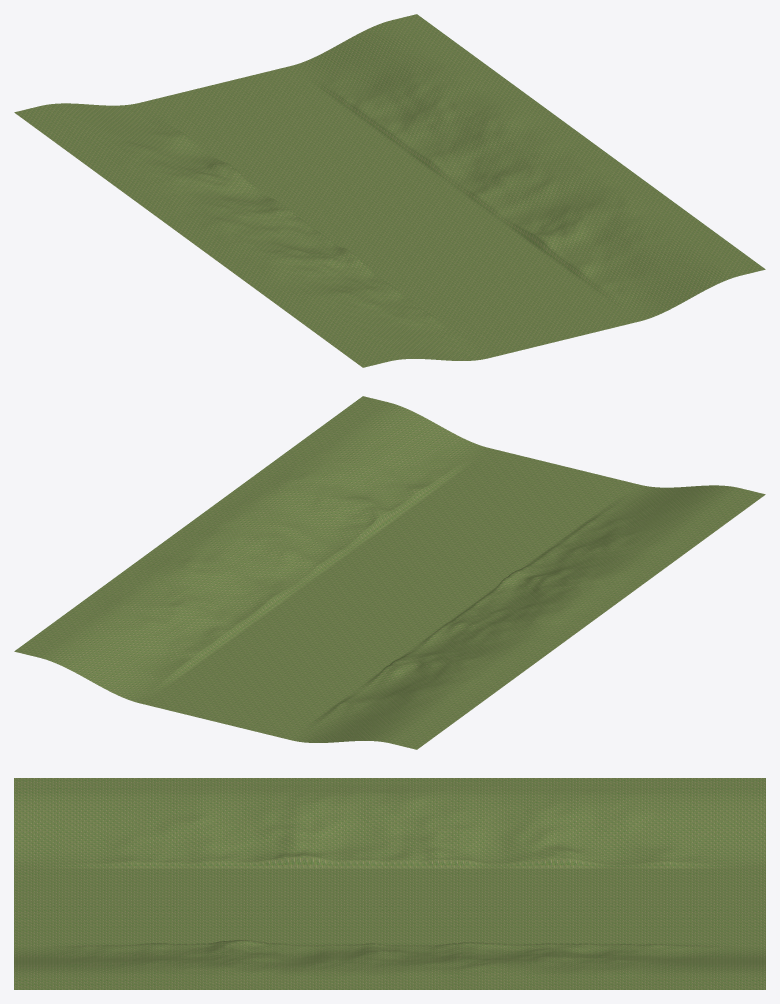
The model's file is AITerrain_Background_Mountains.001.obj.
3 views of the same model, one above another, from view 1: azimuth 30°, elevation 25°; view 2: azimuth 150°, elevation 25°; view 3: azimuth 270°, elevation 25° (orthographic). The views are drawn at different scales.
Parts seen in each view (by area): view 1: AITerrain_Background_Mountains.001; view 2: AITerrain_Background_Mountains.001; view 3: AITerrain_Background_Mountains.001.
Part boxes in pixels (x1,y1,x2,y2): AITerrain_Background_Mountains.001: (14, 14, 765, 367); AITerrain_Background_Mountains.001: (14, 396, 765, 749); AITerrain_Background_Mountains.001: (14, 778, 765, 989).
Size of the model in its own units: 8000 by 426 by 12000.
Materials: 1 (1 with a texture image).
